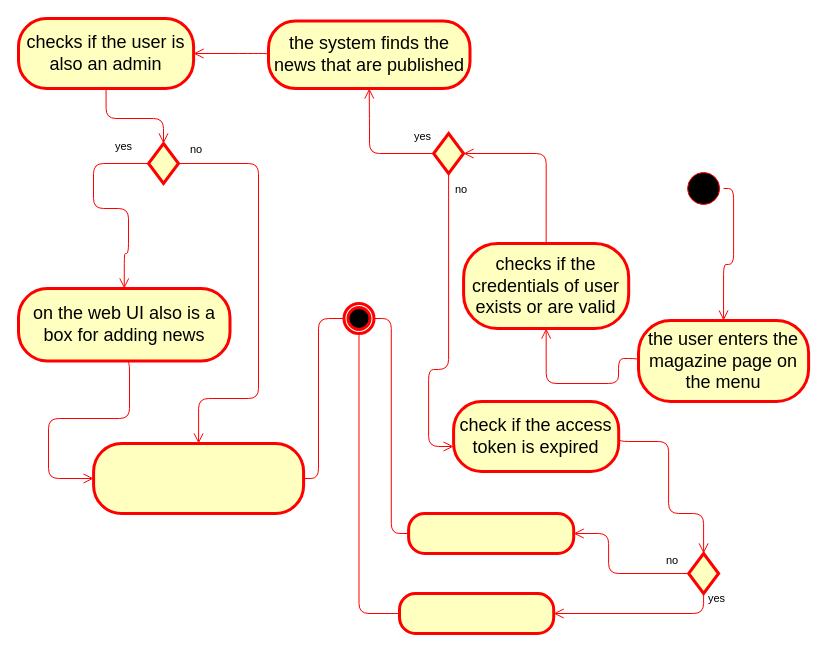
Image size: 828x652. Some labels were removed from this diagram. Each missing label, with the centre of its shape:
"error message" belongs at point 491,533.
"need refresh" belongs at point 476,613.
"retrieve news and show them in web UI" belongs at point 198,478.
